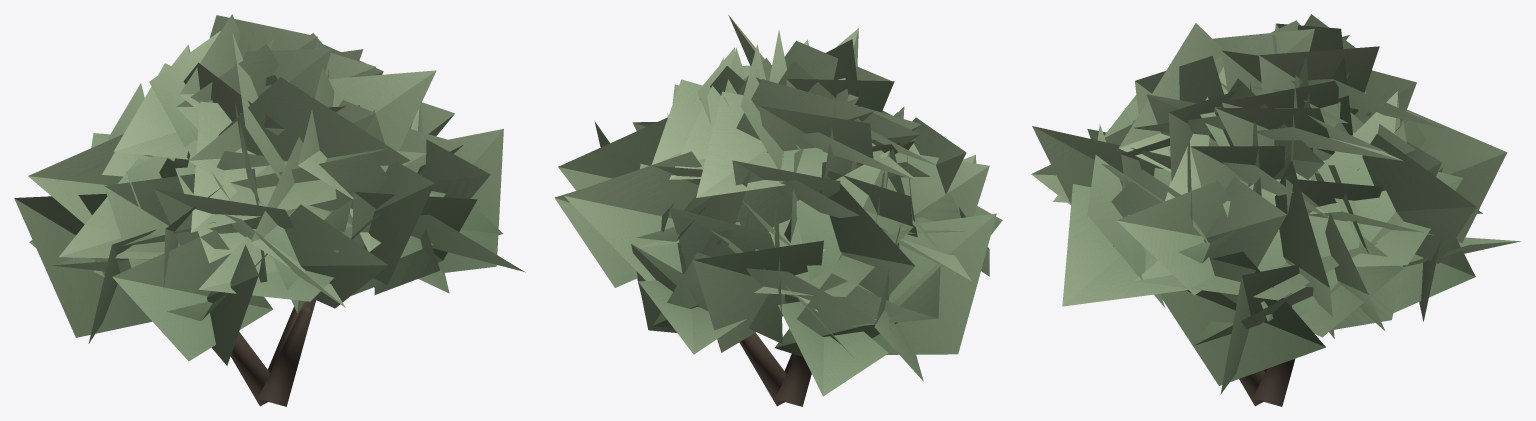
File: sage_lo.glb
3 views of the same model, side by side, from view 1: azimuth 30°, elevation 25°; view 2: azimuth 150°, elevation 25°; view 3: azimuth 270°, elevation 25° (orthographic). The views are drawn at different scales.
Visible parts, largest first — view 1: sage_lo; view 2: sage_lo; view 3: sage_lo.
Boxes of the visible parts, box(x1,y1,x2,y2) form: sage_lo: box(14, 14, 525, 406); sage_lo: box(554, 15, 1002, 406); sage_lo: box(1031, 14, 1520, 406).
Size of the model in its own units: 1.25 by 1.04 by 1.24.
